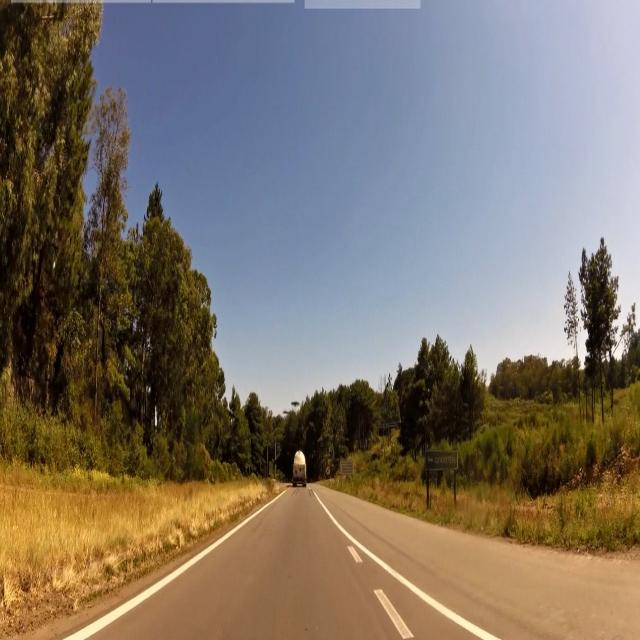I-4: (424, 449, 458, 469)
